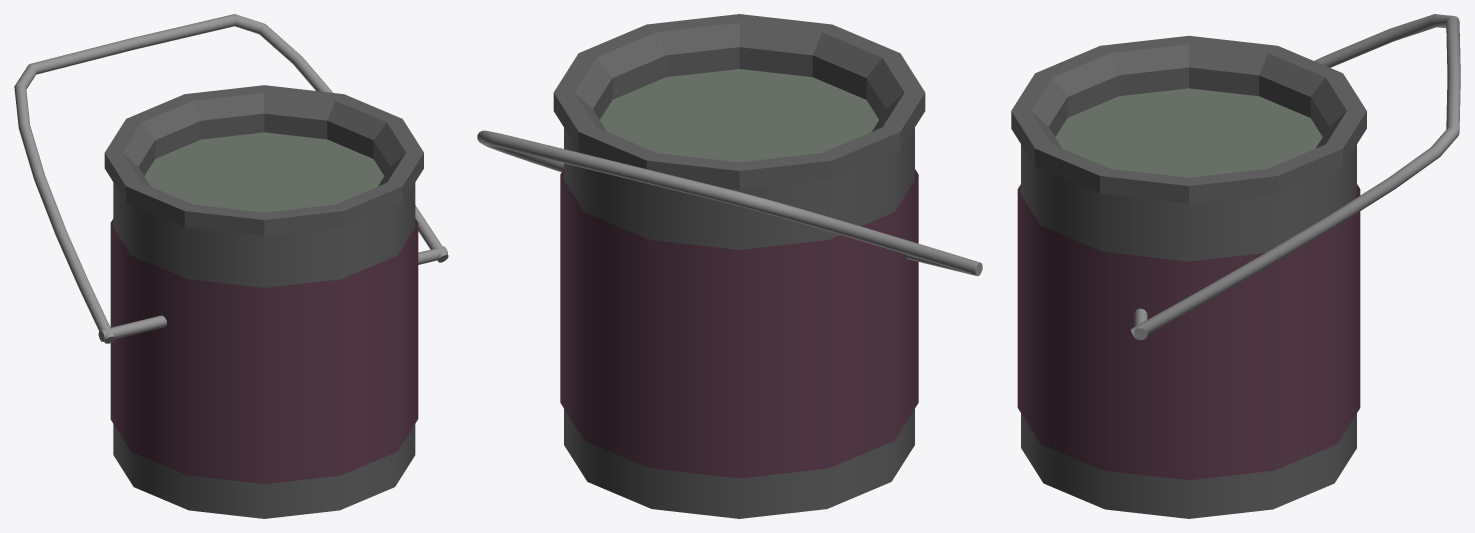
Rendered from SM_paint_bucket_02.fbx.
The picture shows the model from 3 angles, left to right: view 1: azimuth 30°, elevation 25°; view 2: azimuth 150°, elevation 25°; view 3: azimuth 270°, elevation 25°; orthographic projection. The views are drawn at different scales.
Parts seen in each view (by area): view 1: paint_bucket_02; view 2: paint_bucket_02; view 3: paint_bucket_02.
Part boxes in pixels (x1,y1,x2,y2): paint_bucket_02: (14, 14, 448, 518); paint_bucket_02: (477, 14, 982, 518); paint_bucket_02: (1011, 14, 1460, 518).
Bounding box in the file's own units: 42.11 × 38.93 × 42.81.
